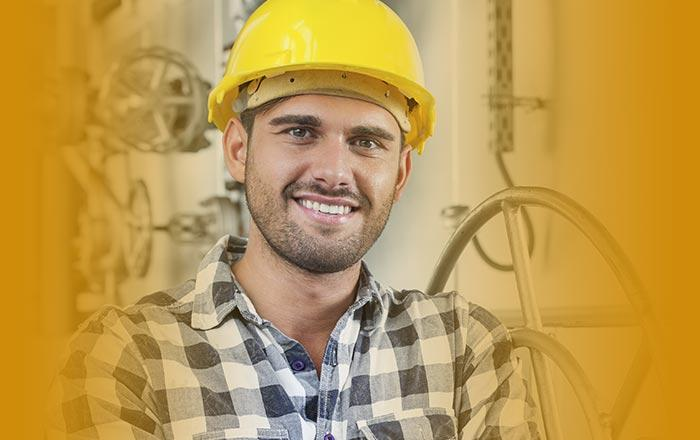helmet: (206, 2, 434, 152)
